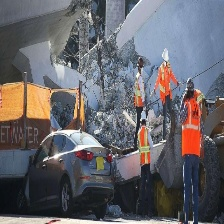helmet: (162, 47, 169, 62), (140, 109, 148, 122), (137, 55, 144, 69)
person: (180, 78, 202, 222), (139, 110, 155, 220), (159, 48, 175, 147), (134, 58, 146, 109)
vest: (185, 102, 201, 156), (139, 129, 151, 165), (161, 67, 171, 102)
